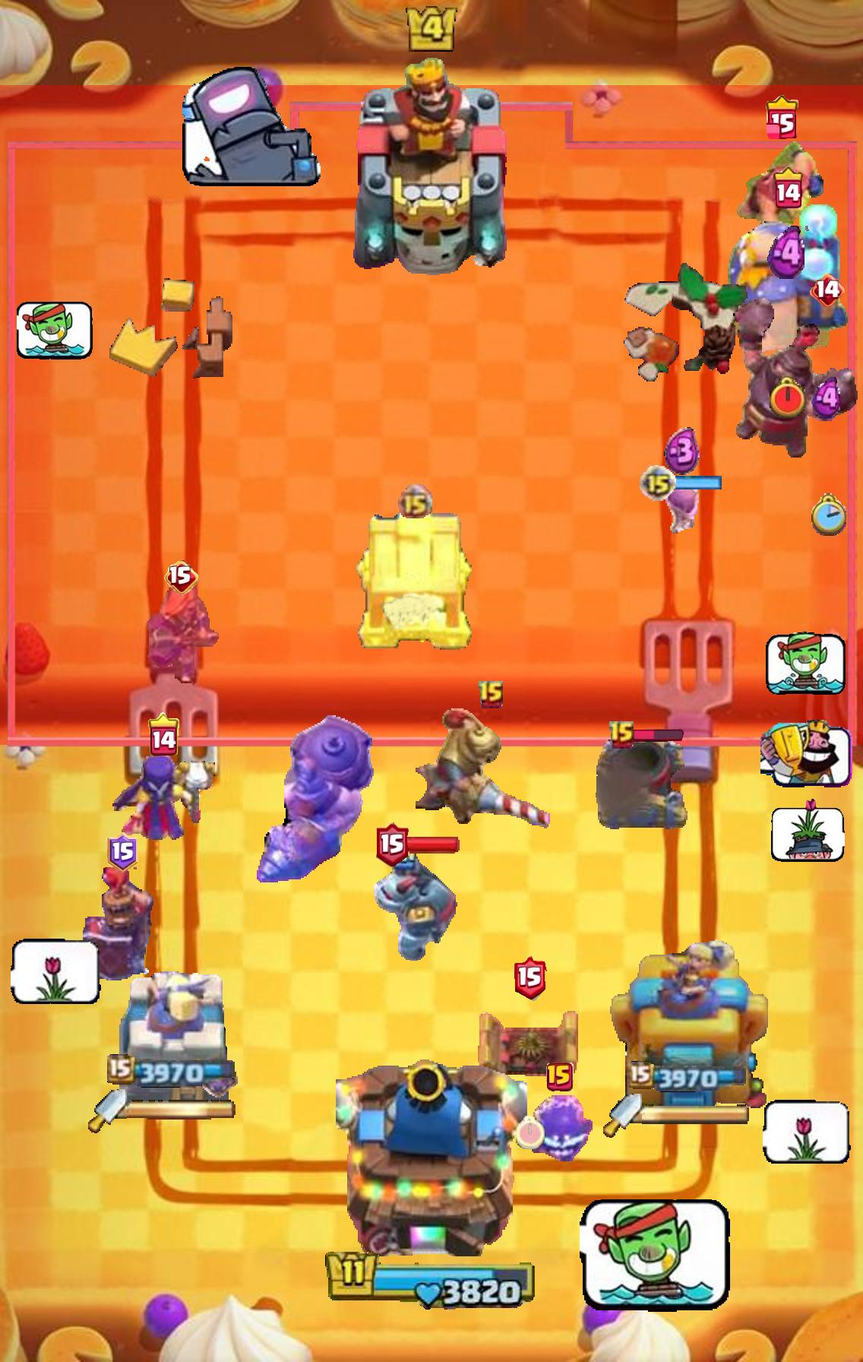bar: (406, 836, 460, 854), (632, 729, 684, 743)
bar-level: (376, 822, 409, 868), (766, 95, 799, 139), (514, 957, 547, 1001), (149, 712, 180, 756), (106, 833, 138, 873), (774, 165, 803, 209), (164, 560, 199, 595), (810, 273, 846, 307), (478, 680, 505, 711), (609, 721, 636, 751), (546, 1063, 574, 1091)
